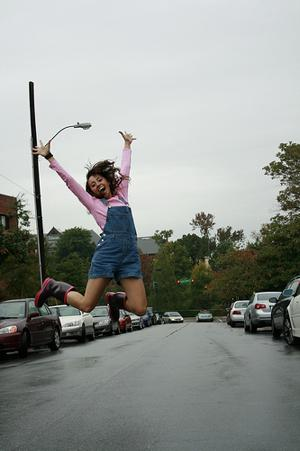person: (32, 132, 148, 317)
